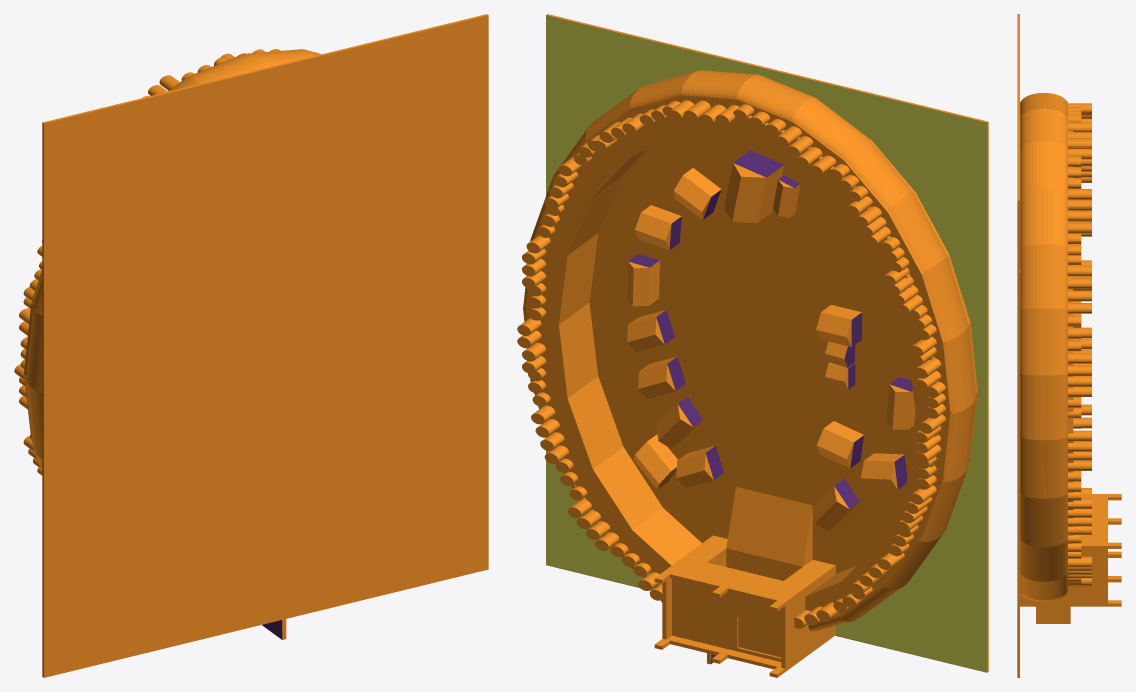
Rendered from Piotrówka.fbx.
3 renders of one model, left to right at view 1: azimuth 30°, elevation 25°; view 2: azimuth 150°, elevation 25°; view 3: azimuth 270°, elevation 25°, orthographic. The views are drawn at different scales.
Visible parts, largest first — view 1: Piotrowka_osada; view 2: Piotrowka_osada; view 3: Piotrowka_osada.
Boxes of the visible parts, <box> form: Piotrowka_osada: <box>14,14,488,677</box>; Piotrowka_osada: <box>517,14,988,677</box>; Piotrowka_osada: <box>1017,14,1121,677</box>.
Size of the model in its own units: 42.85 by 53.66 by 10.06.
1 material, 1 textured.
